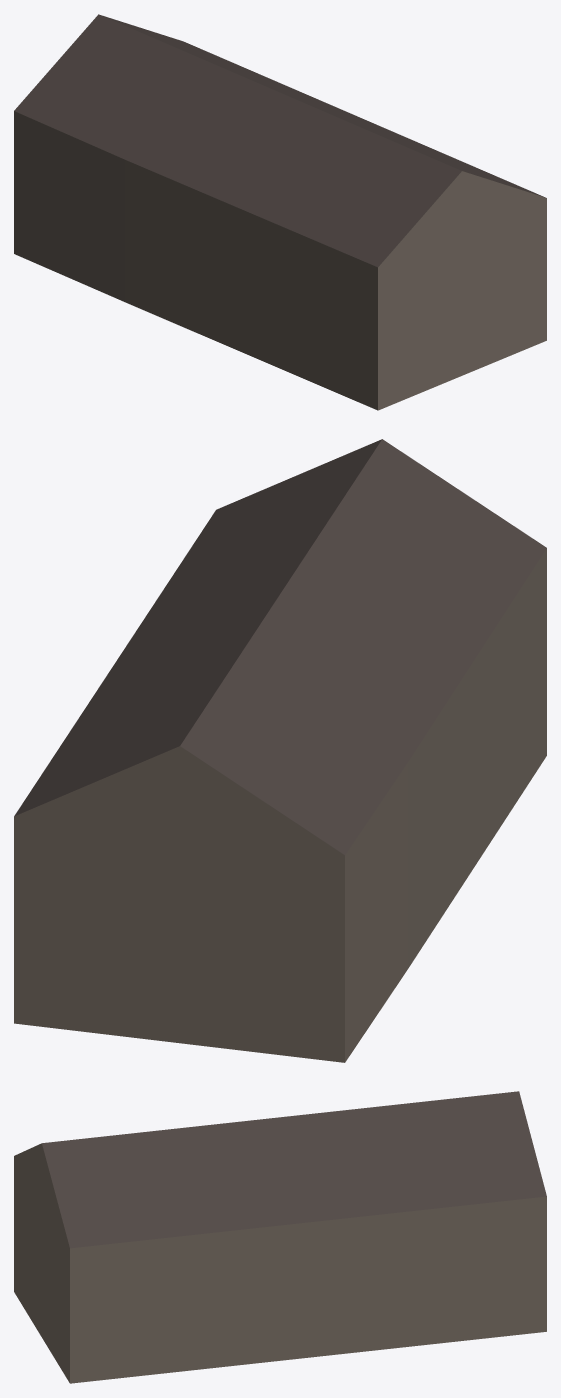
3 views of the same model, one above another, from view 1: azimuth 30°, elevation 25°; view 2: azimuth 150°, elevation 25°; view 3: azimuth 270°, elevation 25° (orthographic). The views are drawn at different scales.
Parts seen in each view (by area): view 1: HP-w1197283888; view 2: HP-w1197283888; view 3: HP-w1197283888.
Boxes of the visible parts, x1,y1,x2,y2 form: HP-w1197283888: (14,14,546,410); HP-w1197283888: (14,439,546,1062); HP-w1197283888: (14,1091,546,1383).
Size of the model in its own units: 13.69 by 8.62 by 21.42.
